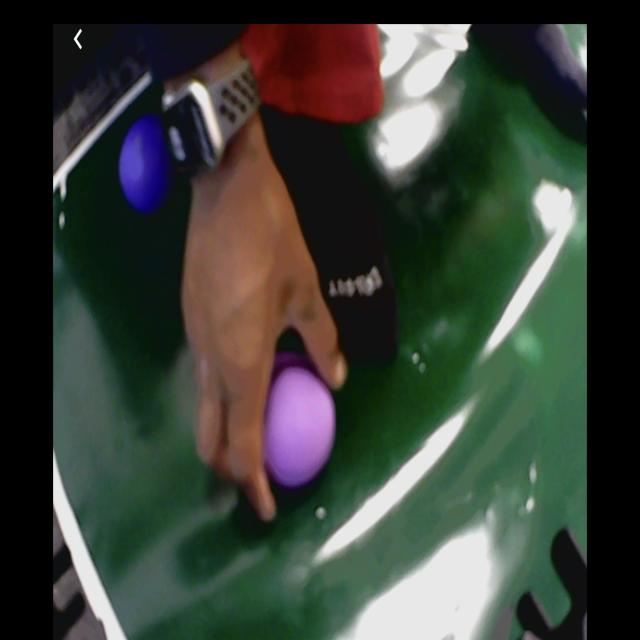ball: (256, 352, 335, 490), (120, 112, 172, 211)
